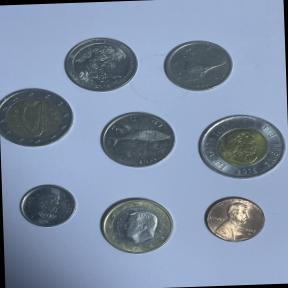1 Euro-B: (92, 193, 180, 259)
2 Euro-B: (0, 82, 78, 151)
Canada-10cent-B: (14, 179, 80, 231)
Canada-2Dollar-B: (192, 107, 288, 186)
Croatia-2Kune-B: (96, 106, 180, 174)
US-1cent-B: (196, 192, 268, 248)
US-25cent-B: (59, 29, 142, 98)
